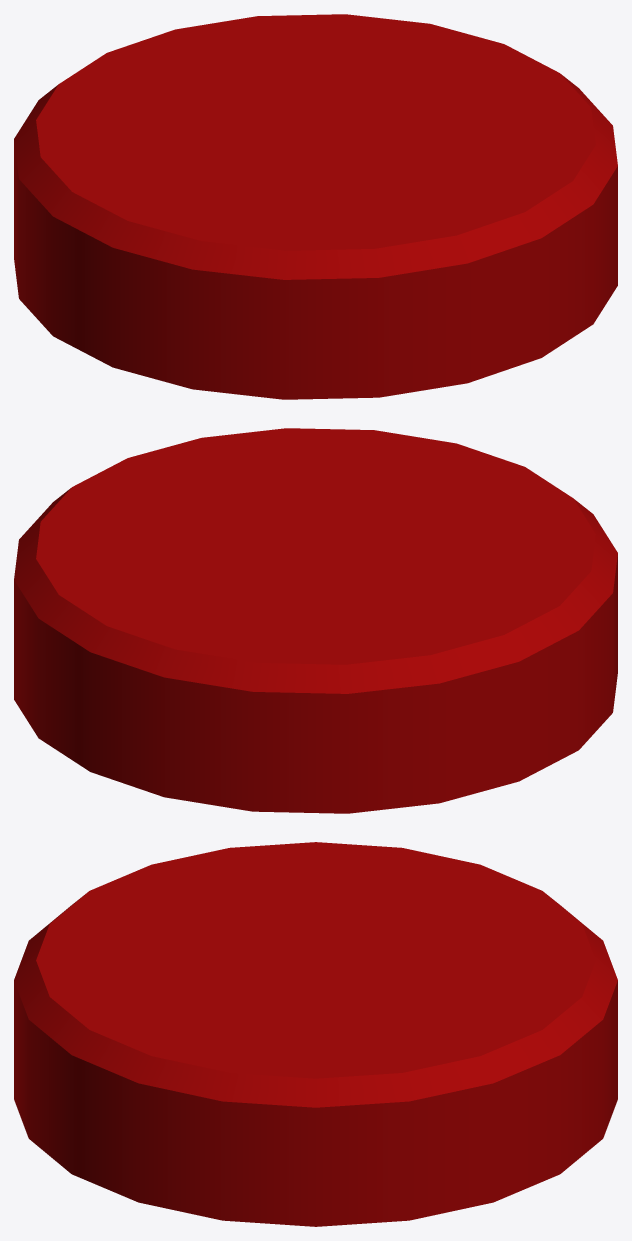
The model's file is Platform_Button_Medium.fbx.
3 renders of one model, top to bottom at view 1: azimuth 30°, elevation 25°; view 2: azimuth 150°, elevation 25°; view 3: azimuth 270°, elevation 25°, orthographic.
Visible parts, largest first — view 1: Platform_Button_Medium; view 2: Platform_Button_Medium; view 3: Platform_Button_Medium.
Boxes of the visible parts, x1,y1,x2,y2 form: Platform_Button_Medium: [14, 14, 617, 399]; Platform_Button_Medium: [14, 428, 617, 813]; Platform_Button_Medium: [14, 842, 617, 1226].
Bounding box in the file's own units: 155 × 39.37 × 155.
